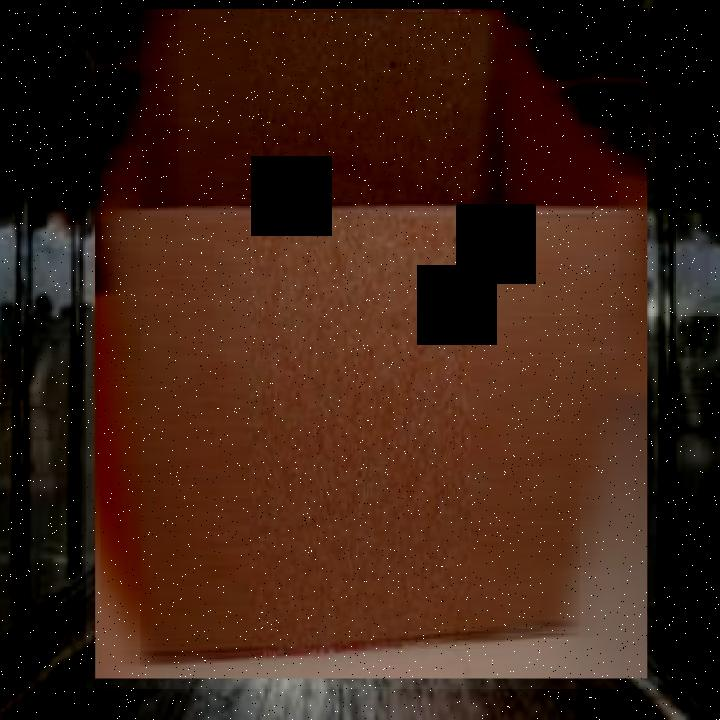box: (86, 0, 658, 689)
